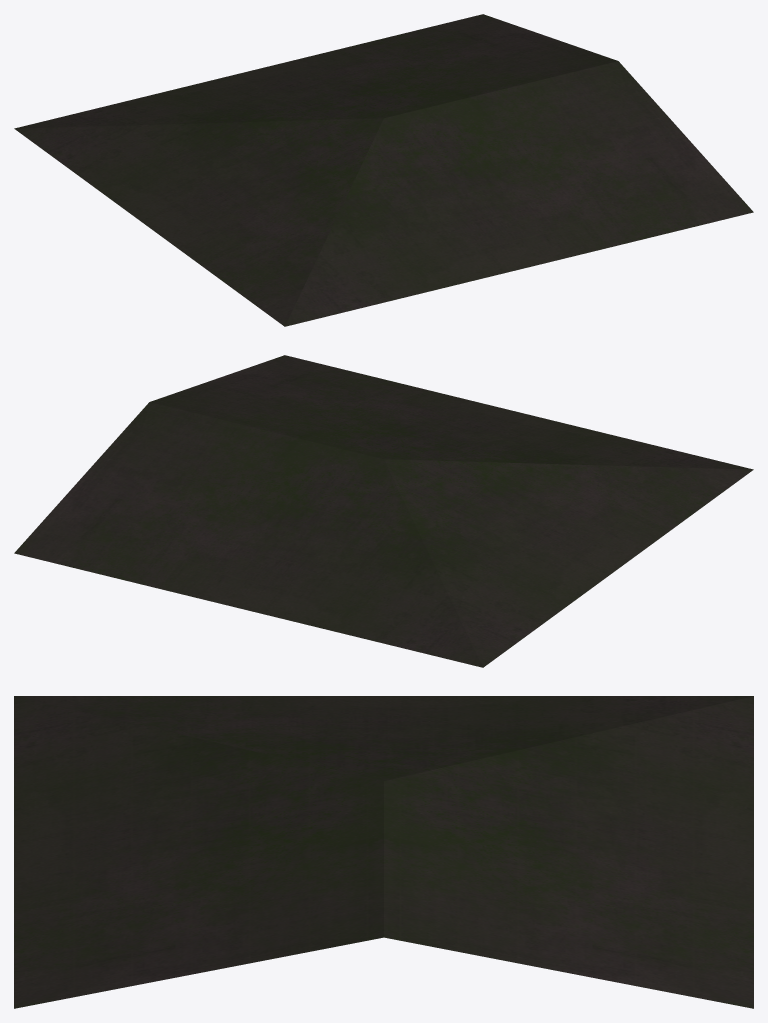
The model's file is shrine_roof_09.fbx.
3 renders of one model, top to bottom at view 1: azimuth 30°, elevation 25°; view 2: azimuth 150°, elevation 25°; view 3: azimuth 270°, elevation 25°, orthographic. The views are drawn at different scales.
Visible parts, largest first — view 1: shrine_roof_09; view 2: shrine_roof_09; view 3: shrine_roof_09.
Part boxes in pixels (bbox=[...]): shrine_roof_09: bbox=[14, 14, 753, 326]; shrine_roof_09: bbox=[14, 355, 753, 667]; shrine_roof_09: bbox=[14, 696, 753, 1008].
Bounding box in the file's own units: 330 × 35.07 × 330.
Materials: 1 (1 with a texture image).
